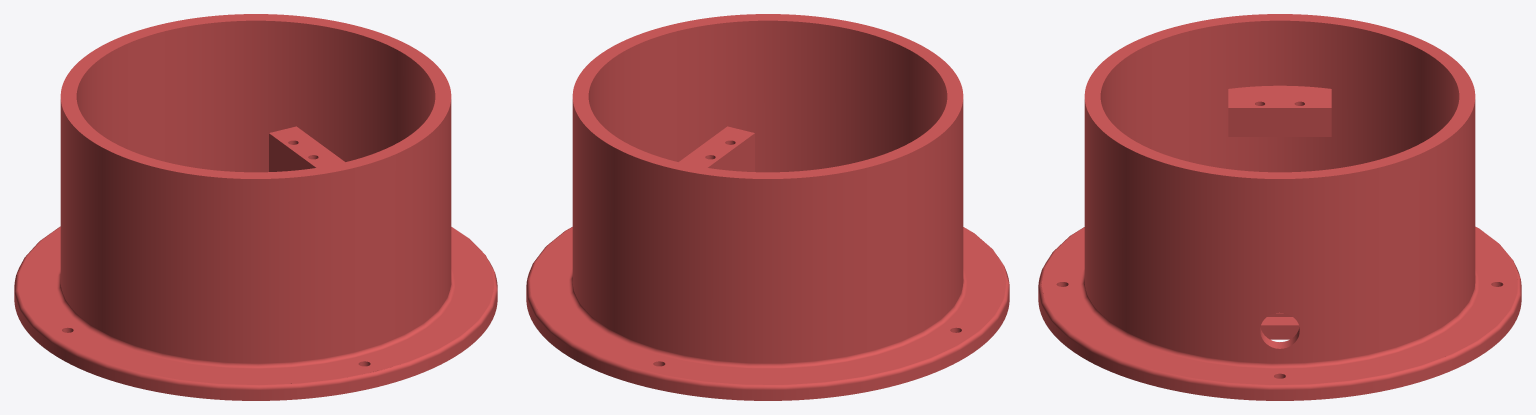
3 renders of one model, left to right at view 1: azimuth 30°, elevation 25°; view 2: azimuth 150°, elevation 25°; view 3: azimuth 270°, elevation 25°, orthographic.
Parts seen in each view (by area): view 1: Part2; view 2: Part2; view 3: Part2.
Part boxes in pixels (x1,y1,x2,y2): Part2: (14, 14, 497, 400); Part2: (526, 14, 1009, 400); Part2: (1038, 14, 1521, 400).
Bounding box in the file's own units: 0.1212 × 0.056 × 0.1212.
